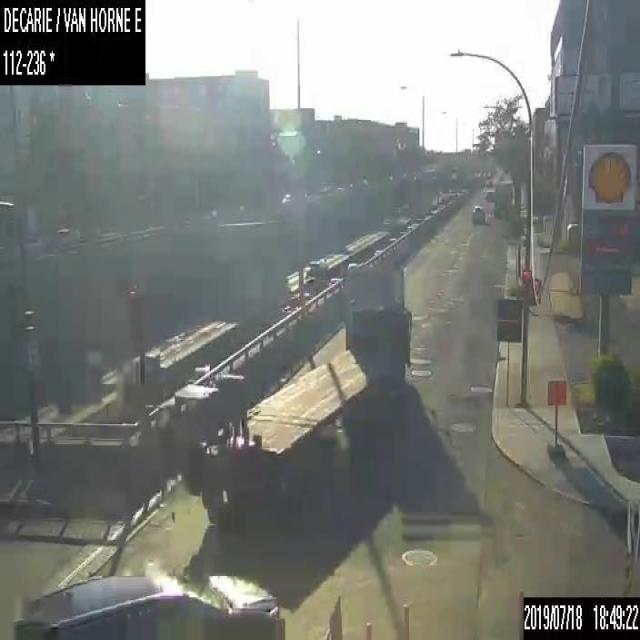construction: (544, 376, 566, 457), (516, 590, 526, 638), (402, 601, 409, 639), (363, 617, 372, 639)
vehicle: (174, 261, 412, 519), (13, 569, 281, 639), (494, 180, 512, 217), (471, 202, 484, 222), (484, 190, 494, 202), (485, 180, 492, 187)
